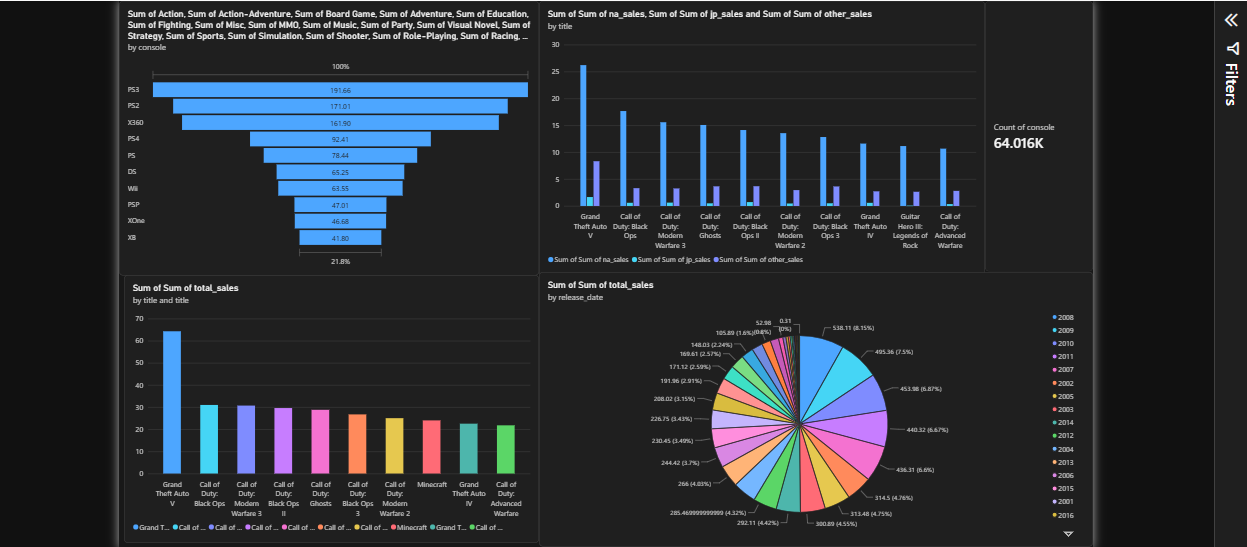

This screenshot's page, from the dashboard's own definition file:
{"tool":"powerbi","page":{"name":"Page 1","canvas":[1920,1080],"ordinal":0},"visuals":[{"type":"funnel","fields":{"Category":["consoles and their genere.console","consoles and their genere.Focus Home Interactive","consoles and their genere.Genki","consoles and their genere.Hirameki International Group","consoles and their genere.Idea Factory","consoles and their genere.KID","consoles and their genere.Sony Computer Entertainment","consoles and their genere.Sandbox","consoles and their genere.CyberFront"],"Y":["Sum(consoles and their genere.Action)"]},"box":[0,0,827.9,541],"z":0},{"type":"columnChart","fields":{"Category":["most sold in the world.title"],"Series":["most sold in the world.title"],"Y":["Sum(most sold in the world.Sum of total_sales)"]},"box":[10.2,541,817.8,528.3],"z":1},{"type":"clusteredColumnChart","fields":{"Category":["popular titles by region.title"],"Y":["Sum(popular titles by region.Sum of na_sales)","Sum(popular titles by region.Sum of jp_sales)","Sum(popular titles by region.Sum of other_sales)"]},"box":[827.9,0,878.7,541],"z":2},{"type":"pieChart","fields":{"Category":["highest sales in each year.release_date"],"Y":["Sum(highest sales in each year.Sum of total_sales)"]},"box":[827.9,533.3,1092.1,541],"z":3},{"type":"cardVisual","fields":{"Data":["CountNonNull(RAW DATA.console)"]},"box":[1707,0,213,533],"z":4}]}

Visuals, with their boxes on the page's 1920x1080 design canvas (x1, y1, x2, y2). These are canvas units, not pixel positions in the 1247x547 screenshot, which may show the page scaled, cropped or inside an application window:
funnel - consoles and their genere.console x consoles and their genere.Focus Home Interactive: pyautogui.locateOnScreen(0, 0, 828, 541)
columnChart - most sold in the world.title x most sold in the world.title: pyautogui.locateOnScreen(10, 541, 828, 1069)
clusteredColumnChart - popular titles by region.title x Sum(popular titles by region.Sum of na_sales): pyautogui.locateOnScreen(828, 0, 1707, 541)
pieChart - highest sales in each year.release_date x Sum(highest sales in each year.Sum of total_sales): pyautogui.locateOnScreen(828, 533, 1920, 1074)
cardVisual - CountNonNull(RAW DATA.console): pyautogui.locateOnScreen(1707, 0, 1920, 533)
